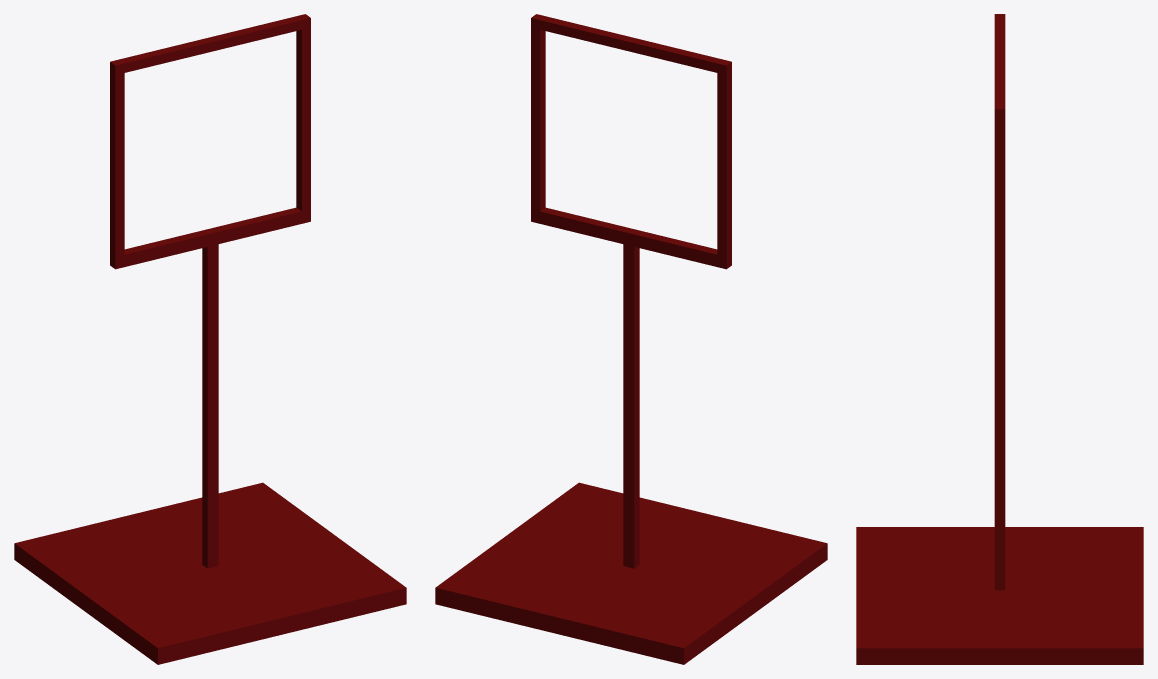
The model's file is gate_triangulated_faces.obj.
The picture shows the model from 3 angles, left to right: view 1: azimuth 30°, elevation 25°; view 2: azimuth 150°, elevation 25°; view 3: azimuth 270°, elevation 25°; orthographic projection.
Visible parts, largest first — view 1: Cube_Cube.001; view 2: Cube_Cube.001; view 3: Cube_Cube.001.
Boxes of the visible parts, x1=… form: Cube_Cube.001: x1=14, y1=14, x2=406, y2=664; Cube_Cube.001: x1=435, y1=14, x2=827, y2=664; Cube_Cube.001: x1=856, y1=14, x2=1143, y2=664.
Bounding box in the file's own units: 1.36 × 2.83 × 1.36.
